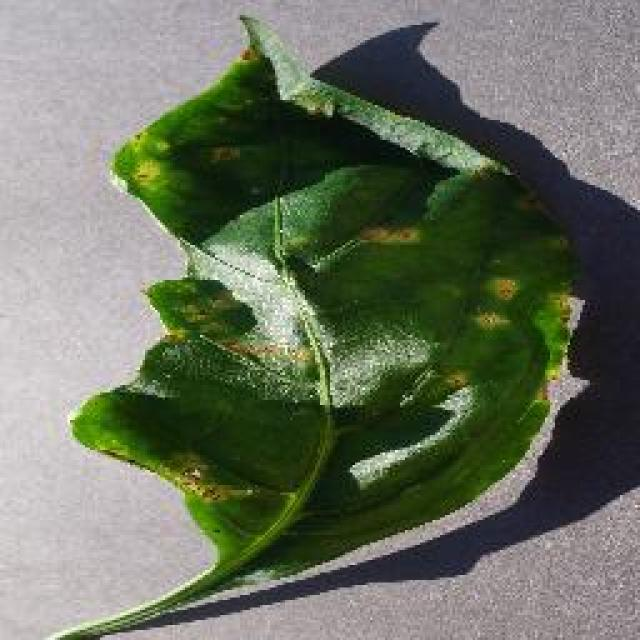Chilli_Bacterial_Spot: (32, 10, 590, 638), (433, 270, 525, 395), (140, 272, 260, 350), (465, 270, 523, 335), (352, 218, 422, 248), (468, 305, 512, 335), (128, 155, 162, 190), (203, 140, 245, 168), (438, 365, 472, 395), (490, 273, 520, 305), (232, 40, 260, 65)
